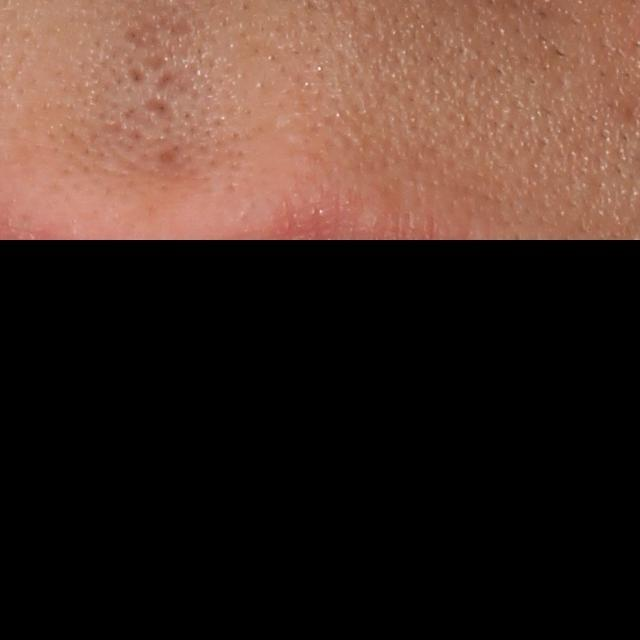atrophic_scar: (120, 8, 194, 87), (140, 97, 178, 124), (153, 68, 181, 91), (157, 149, 180, 165)
